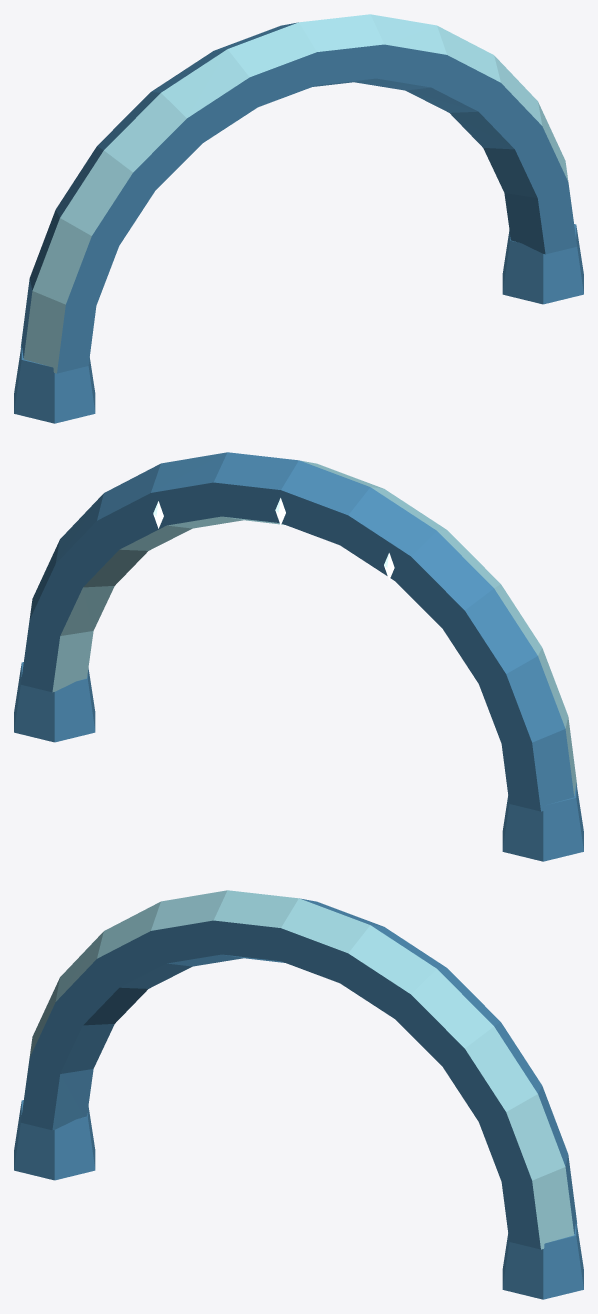
File: ice-arch.glb
The picture shows the model from 3 angles, top to bottom: view 1: azimuth 30°, elevation 25°; view 2: azimuth 150°, elevation 25°; view 3: azimuth 330°, elevation 25°; orthographic projection.
Parts seen in each view (by area): view 1: ice-arch; view 2: ice-arch; view 3: ice-arch.
Part boxes in pixels (x1,y1,x2,y2): ice-arch: (14,14,583,423); ice-arch: (14,452,583,861); ice-arch: (14,890,583,1299).
Size of the model in its own units: 12.6 by 6.8 by 1.56.
